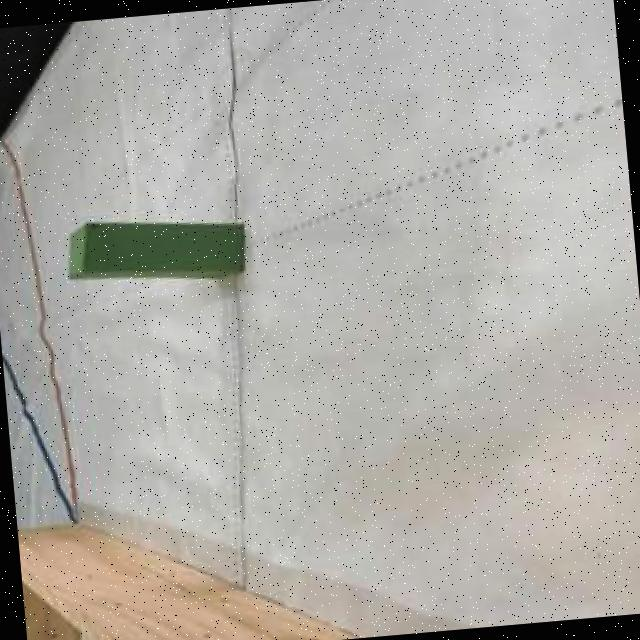greenbox: (68, 213, 247, 288)
